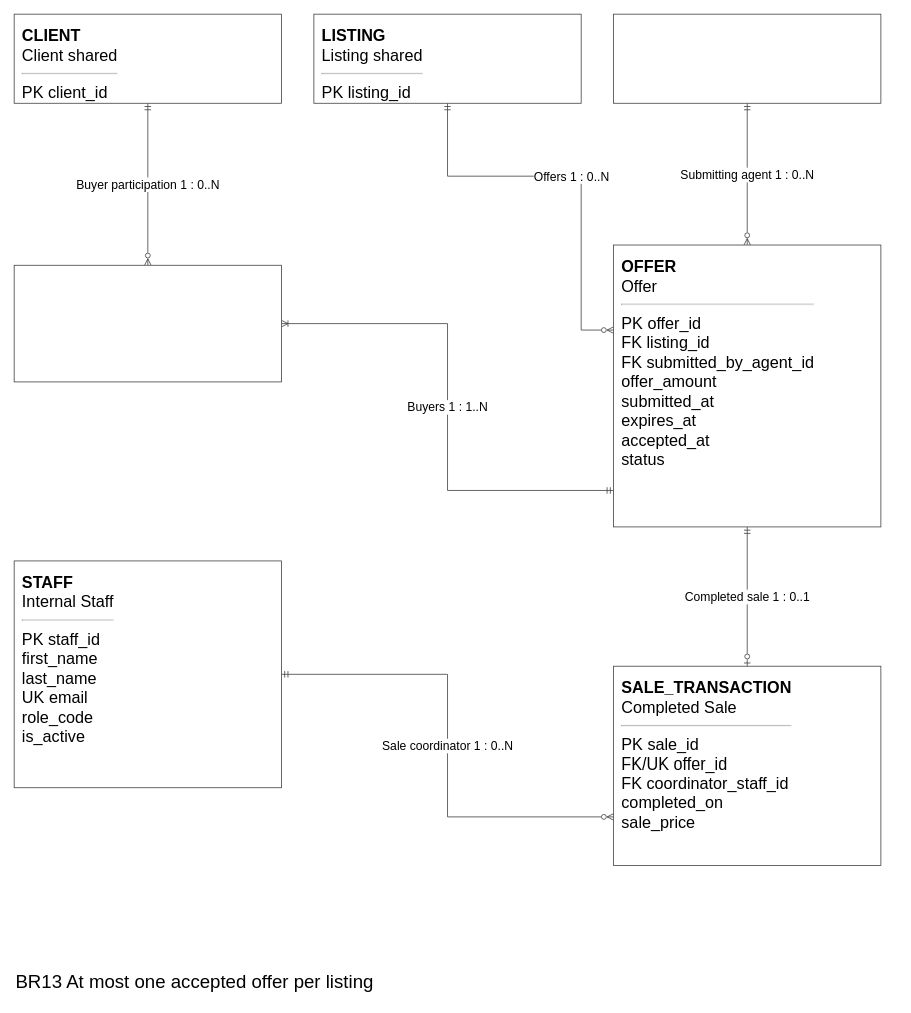
Some shapes in this 911 by 1013 pixel diagram are drawn without their labels. The shapes that lost their labels are listed below. From the top down, each one's box as (x1, y1, x2, y2) in pixels, then its label:
(613, 13, 881, 103): AGENT Agent shared PK agent_id
(13, 264, 281, 382): OFFER_BUYER Offer Buyer PK/FK offer_id PK/FK client_id
